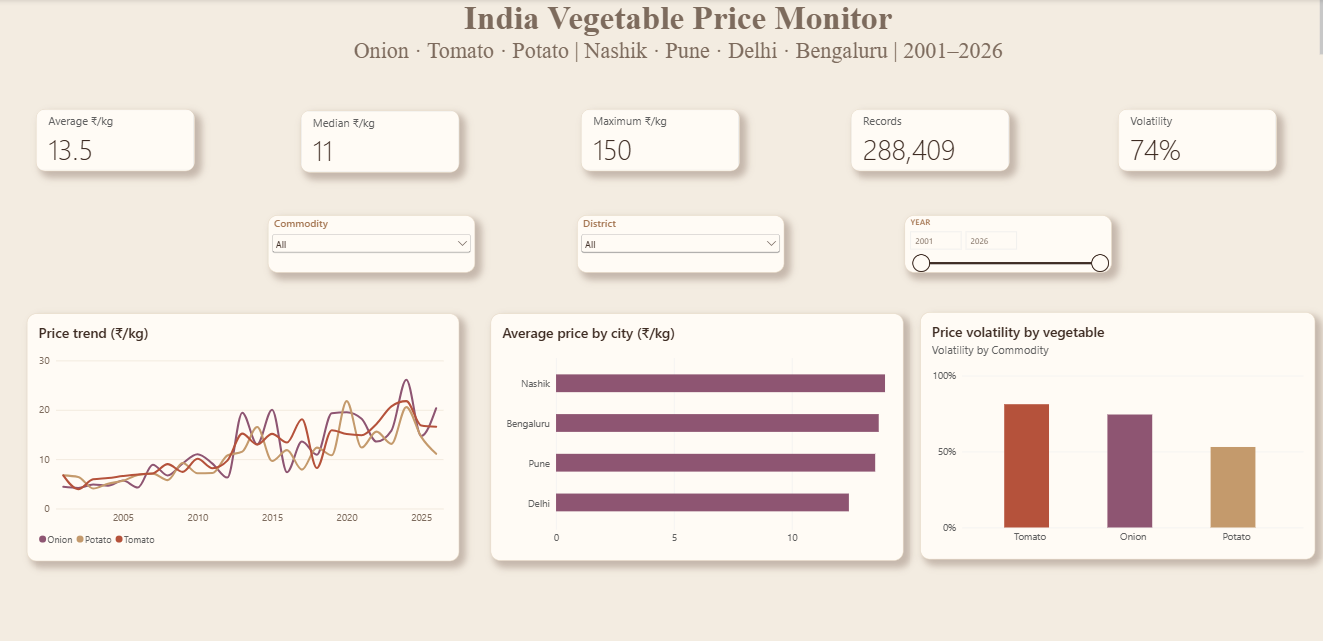

This screenshot's page, from the dashboard's own definition file:
{"tool":"powerbi","page":{"name":"Overview","canvas":[1920,1080],"ordinal":0},"visuals":[{"type":"textbox","box":[56,0,1864,94],"z":0},{"type":"cardVisual","fields":{"Data":["prices.Avg Price"]},"box":[55,159.3,230,90],"z":1000},{"type":"cardVisual","fields":{"Data":["prices.Median Price"]},"box":[438.1,161.2,230,90],"z":2000},{"type":"cardVisual","fields":{"Data":["prices.Max Price"]},"box":[843.9,159.3,230,90],"z":3000},{"type":"cardVisual","title":"Volatility","fields":{"Data":["prices.Volatility %"]},"box":[1621.4,159.3,230,90],"z":4000},{"type":"lineChart","title":"Price trend (₹/kg)","fields":{"Category":["Date.YEAR"],"Series":["prices.Commodity"],"Y":["prices.Average ₹/kg"]},"box":[41.7,455.1,625.8,358.4],"z":5000},{"type":"clusteredBarChart","title":"Yearly price trend (₹/kg)","fields":{"Category":["Districts.District"],"Y":["prices.Average ₹/kg"]},"box":[713,455.1,598,358],"z":6000},{"type":"clusteredColumnChart","title":"Price volatility by vegetable","fields":{"Category":["prices.Commodity"],"Y":["prices.Volatility Records"]},"box":[1335,453.2,572,358],"z":7000},{"type":"slicer","fields":{"Values":["prices.Commodity"]},"box":[390,313.3,300,83.3],"z":8000},{"type":"slicer","fields":{"Values":["Districts.District"]},"box":[838.3,313.3,300,83.3],"z":9000},{"type":"slicer","fields":{"Values":["Date.YEAR"]},"box":[1311.7,313.3,300,83.3],"z":10000},{"type":"cardVisual","fields":{"Data":["prices.Records"]},"box":[1234.5,159.3,230,90],"z":11000}]}

Visuals, with their boxes on the page's 1920x1080 design canvas (x1, y1, x2, y2). These are canvas units, not pixel positions in the 1323x641 screenshot, which may show the page scaled, cropped or inside an application window:
textbox: box(56, 0, 1920, 94)
cardVisual - prices.Avg Price: box(55, 159, 285, 249)
cardVisual - prices.Median Price: box(438, 161, 668, 251)
cardVisual - prices.Max Price: box(844, 159, 1074, 249)
"Volatility" cardVisual: box(1621, 159, 1851, 249)
"Price trend (₹/kg)" lineChart: box(42, 455, 668, 814)
"Yearly price trend (₹/kg)" clusteredBarChart: box(713, 455, 1311, 813)
"Price volatility by vegetable" clusteredColumnChart: box(1335, 453, 1907, 811)
slicer - prices.Commodity: box(390, 313, 690, 397)
slicer - Districts.District: box(838, 313, 1138, 397)
slicer - Date.YEAR: box(1312, 313, 1612, 397)
cardVisual - prices.Records: box(1234, 159, 1464, 249)
